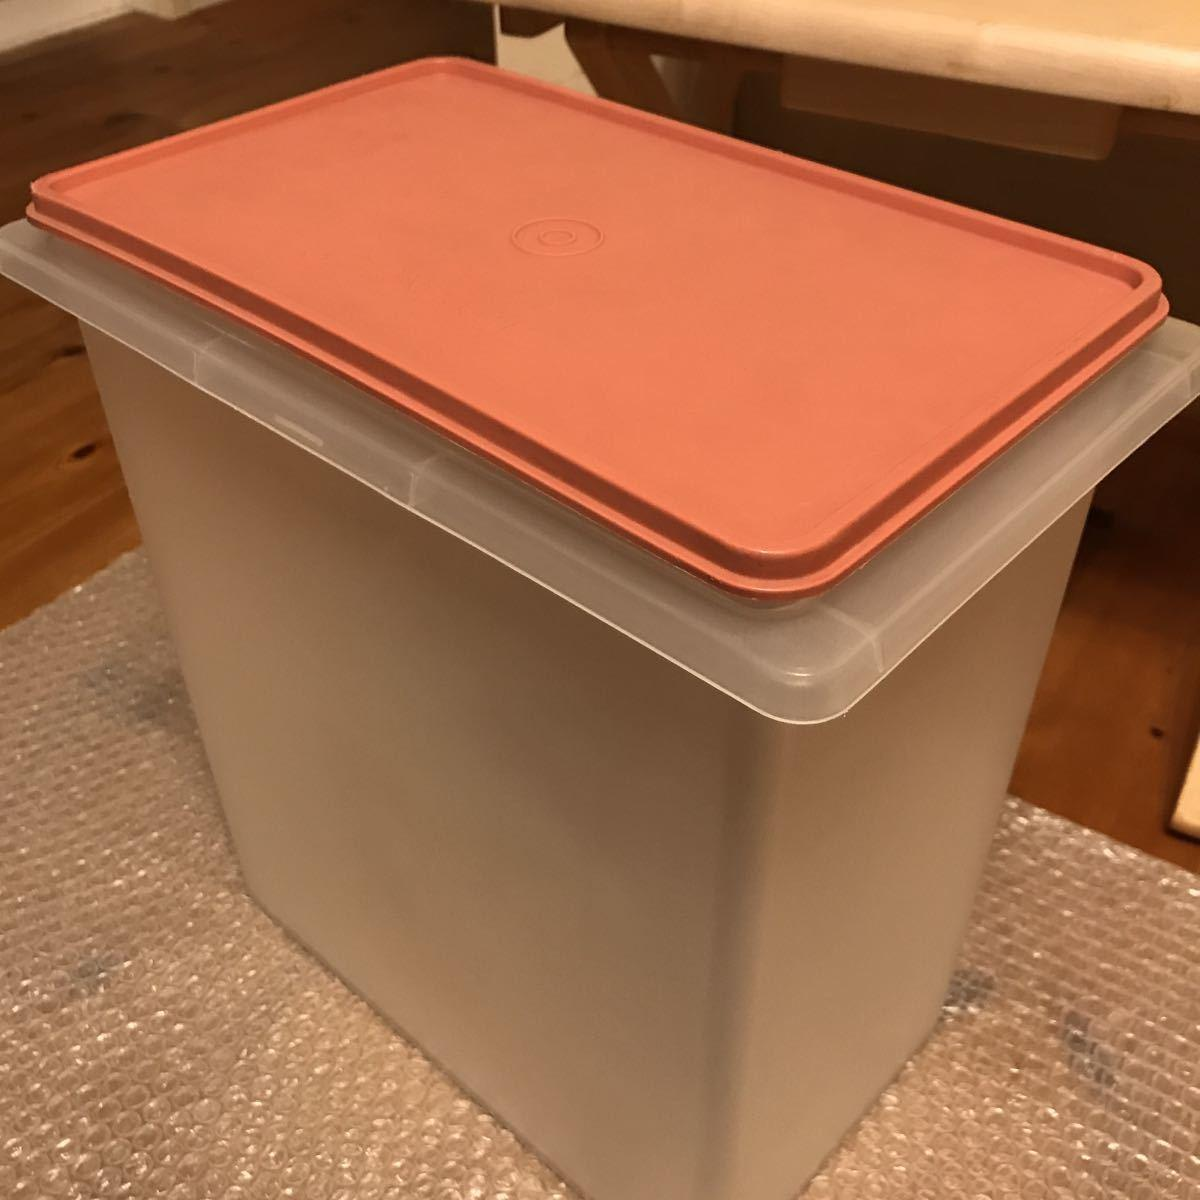plastic: (0, 4, 1199, 1199)
